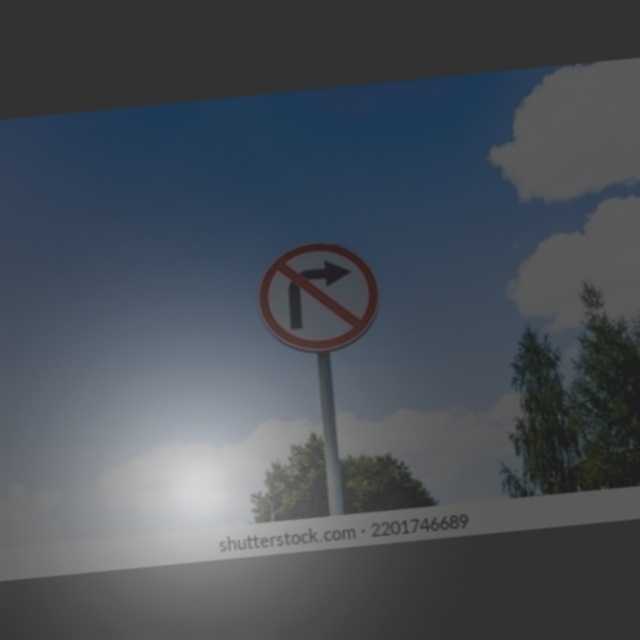Right_Turn_Prohibited: (253, 235, 384, 360)
